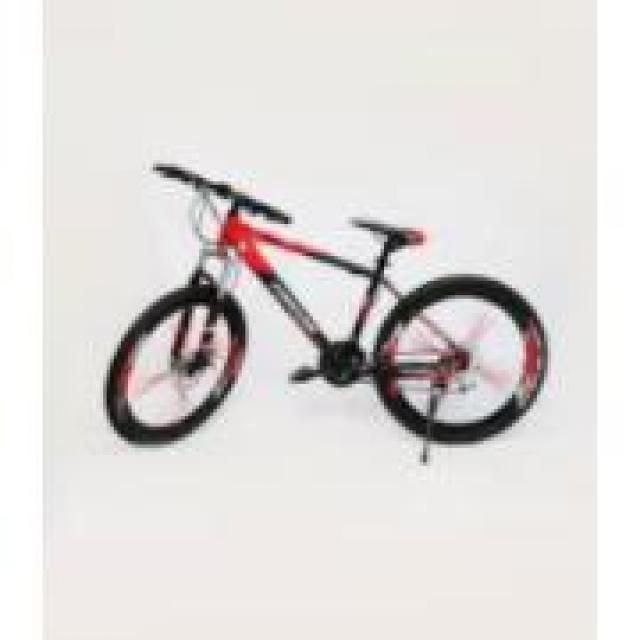bicycle: (101, 158, 567, 453)
